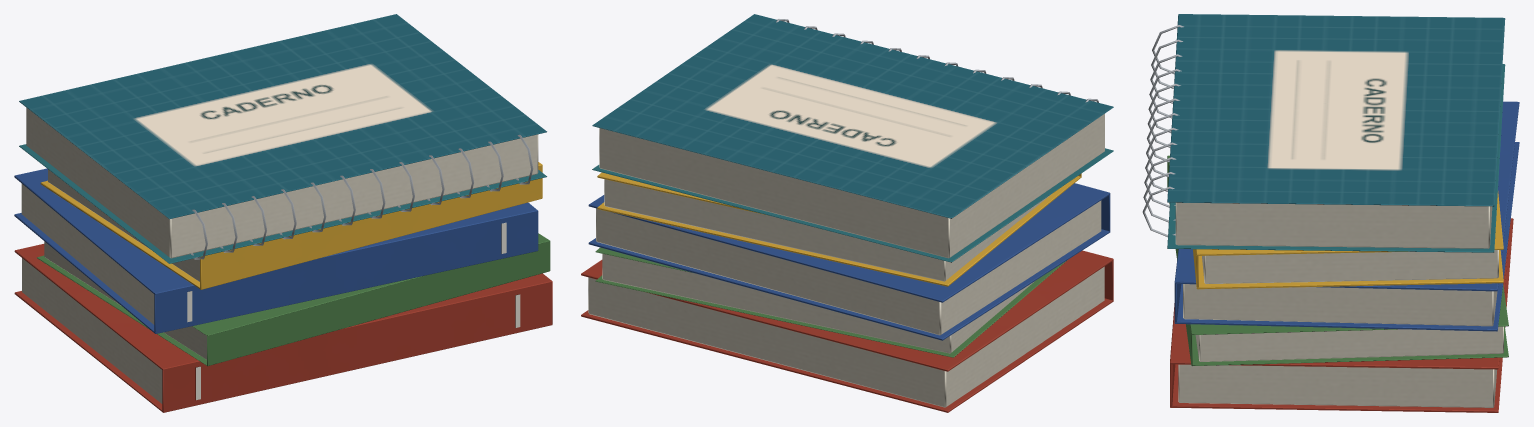
The model's file is pilha_livros_realista.glb.
The picture shows the model from 3 angles, left to right: view 1: azimuth 30°, elevation 25°; view 2: azimuth 150°, elevation 25°; view 3: azimuth 270°, elevation 25°; orthographic projection. The views are drawn at different scales.
Visible parts, largest first — view 1: Pilha_livros_cadernos; view 2: Pilha_livros_cadernos; view 3: Pilha_livros_cadernos.
Part boxes in pixels (box(x1,y1,x2,y2)): Pilha_livros_cadernos: box(14, 14, 552, 412); Pilha_livros_cadernos: box(581, 14, 1113, 412); Pilha_livros_cadernos: box(1142, 14, 1519, 412).
Size of the model in its own units: 0.25 by 0.12 by 0.2.
1 material, 1 textured.
